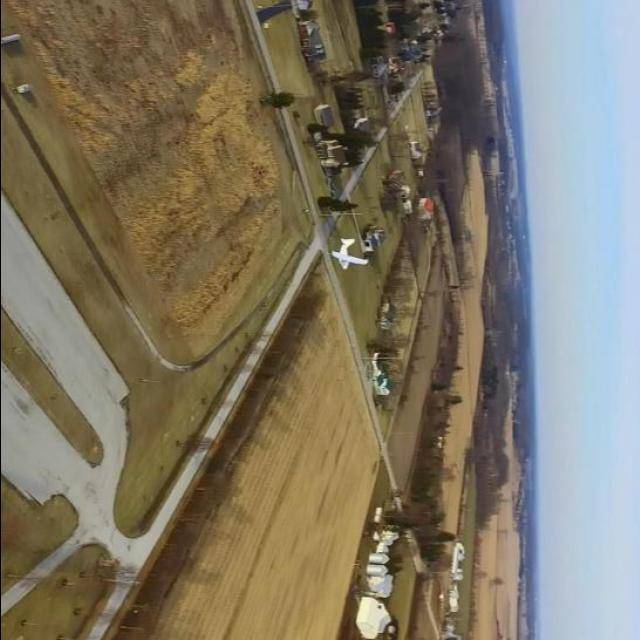plane: (328, 238, 369, 272)
